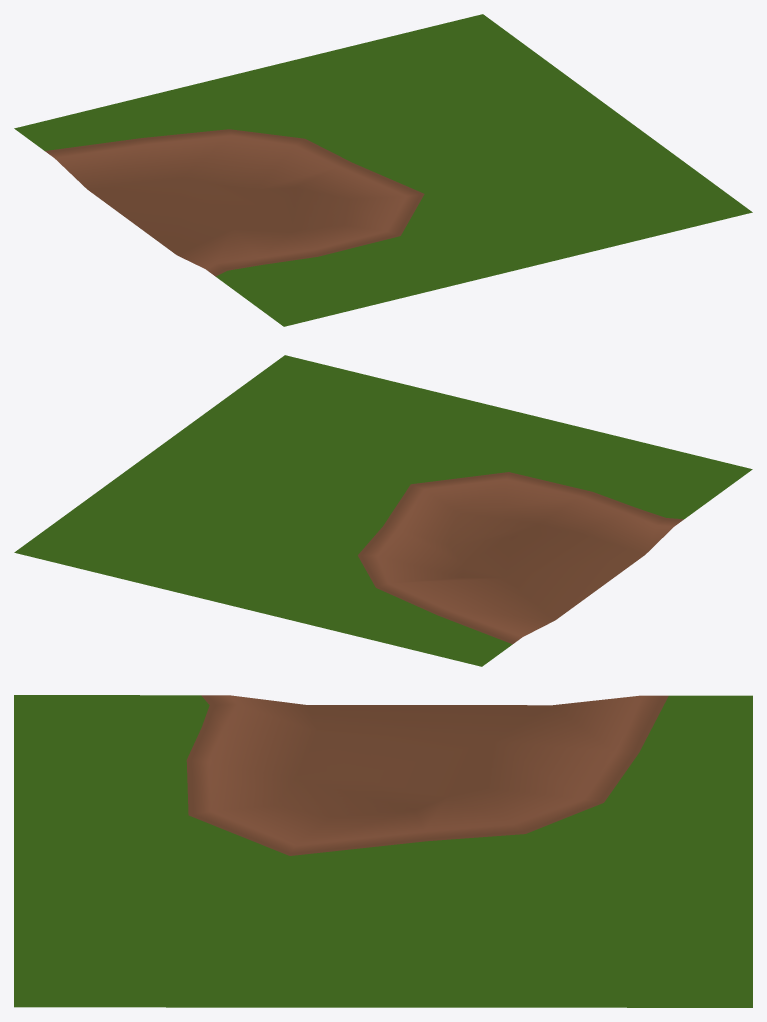
The model's file is GroundHole2_2.fbx.
The picture shows the model from 3 angles, top to bottom: view 1: azimuth 30°, elevation 25°; view 2: azimuth 150°, elevation 25°; view 3: azimuth 270°, elevation 25°; orthographic projection. The views are drawn at different scales.
Visible parts, largest first — view 1: GroundHole2_2; view 2: GroundHole2_2; view 3: GroundHole2_2.
Part boxes in pixels (box(x1,y1,x2,y2)): GroundHole2_2: box(14, 14, 752, 326); GroundHole2_2: box(14, 355, 752, 666); GroundHole2_2: box(14, 695, 752, 1007).
Size of the model in its own units: 401 by 10.65 by 400.
